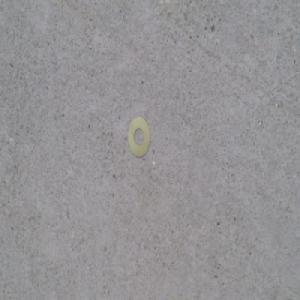Washer: (127, 118, 151, 159)
